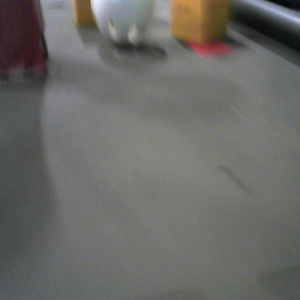middle: (2, 1, 48, 78)
